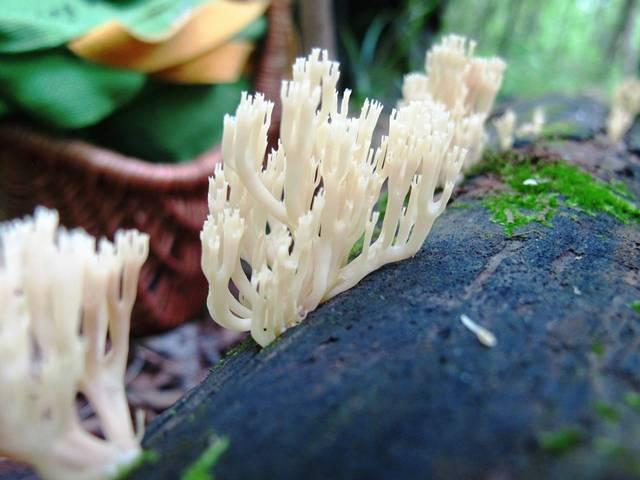edible_mushroom: (198, 33, 509, 348), (0, 204, 150, 479), (399, 32, 508, 174)
